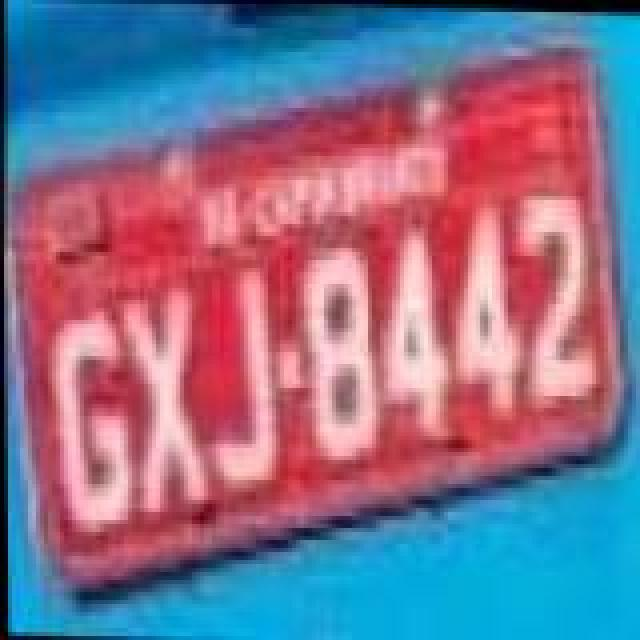2: (510, 186, 602, 410)
4: (446, 198, 530, 410), (370, 236, 454, 432)
8: (294, 244, 386, 468)
G: (46, 306, 134, 538)
J: (202, 272, 282, 496)
X: (110, 278, 214, 522)
